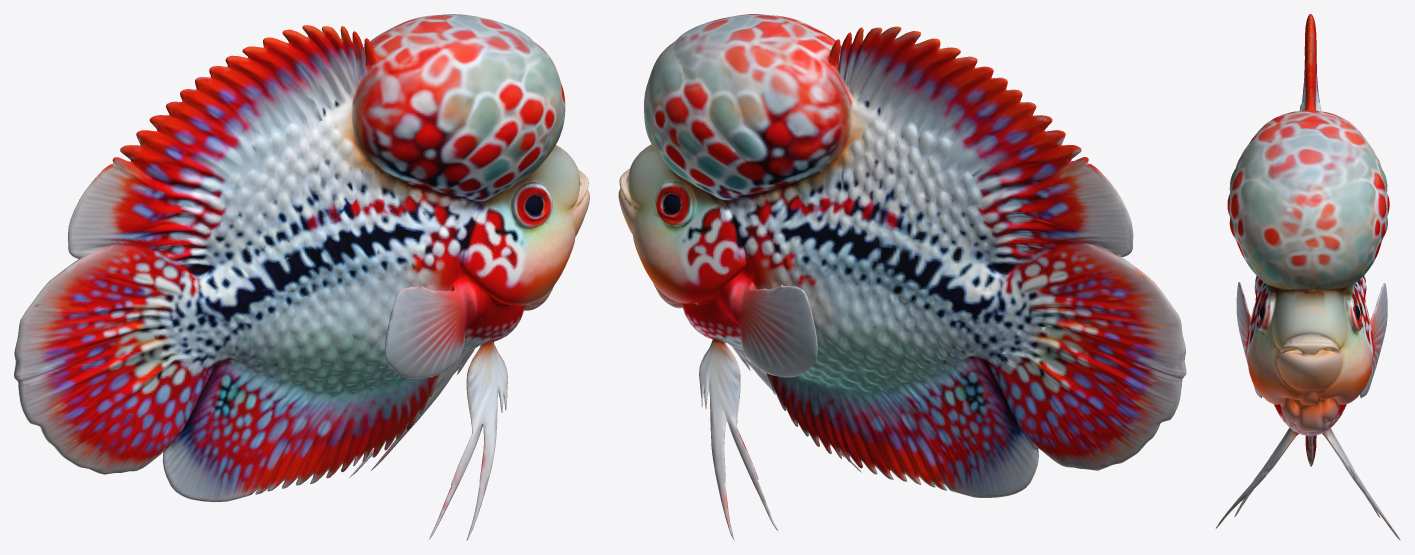
Rendered from flowerhorn.glb.
3 renders of one model, left to right at view 1: azimuth 30°, elevation 25°; view 2: azimuth 150°, elevation 25°; view 3: azimuth 270°, elevation 25°, orthographic. The views are drawn at different scales.
Parts seen in each view (by area): view 1: material; view 2: material; view 3: material.
Part boxes in pixels (x1=…): material: x1=14, y1=14, x2=589, y2=540; material: x1=618, y1=14, x2=1186, y2=540; material: x1=1215, y1=14, x2=1400, y2=540.
Bounding box in the file's own units: 1.17 × 0.9981 × 0.3692.
Materials: 1 (1 with a texture image).
